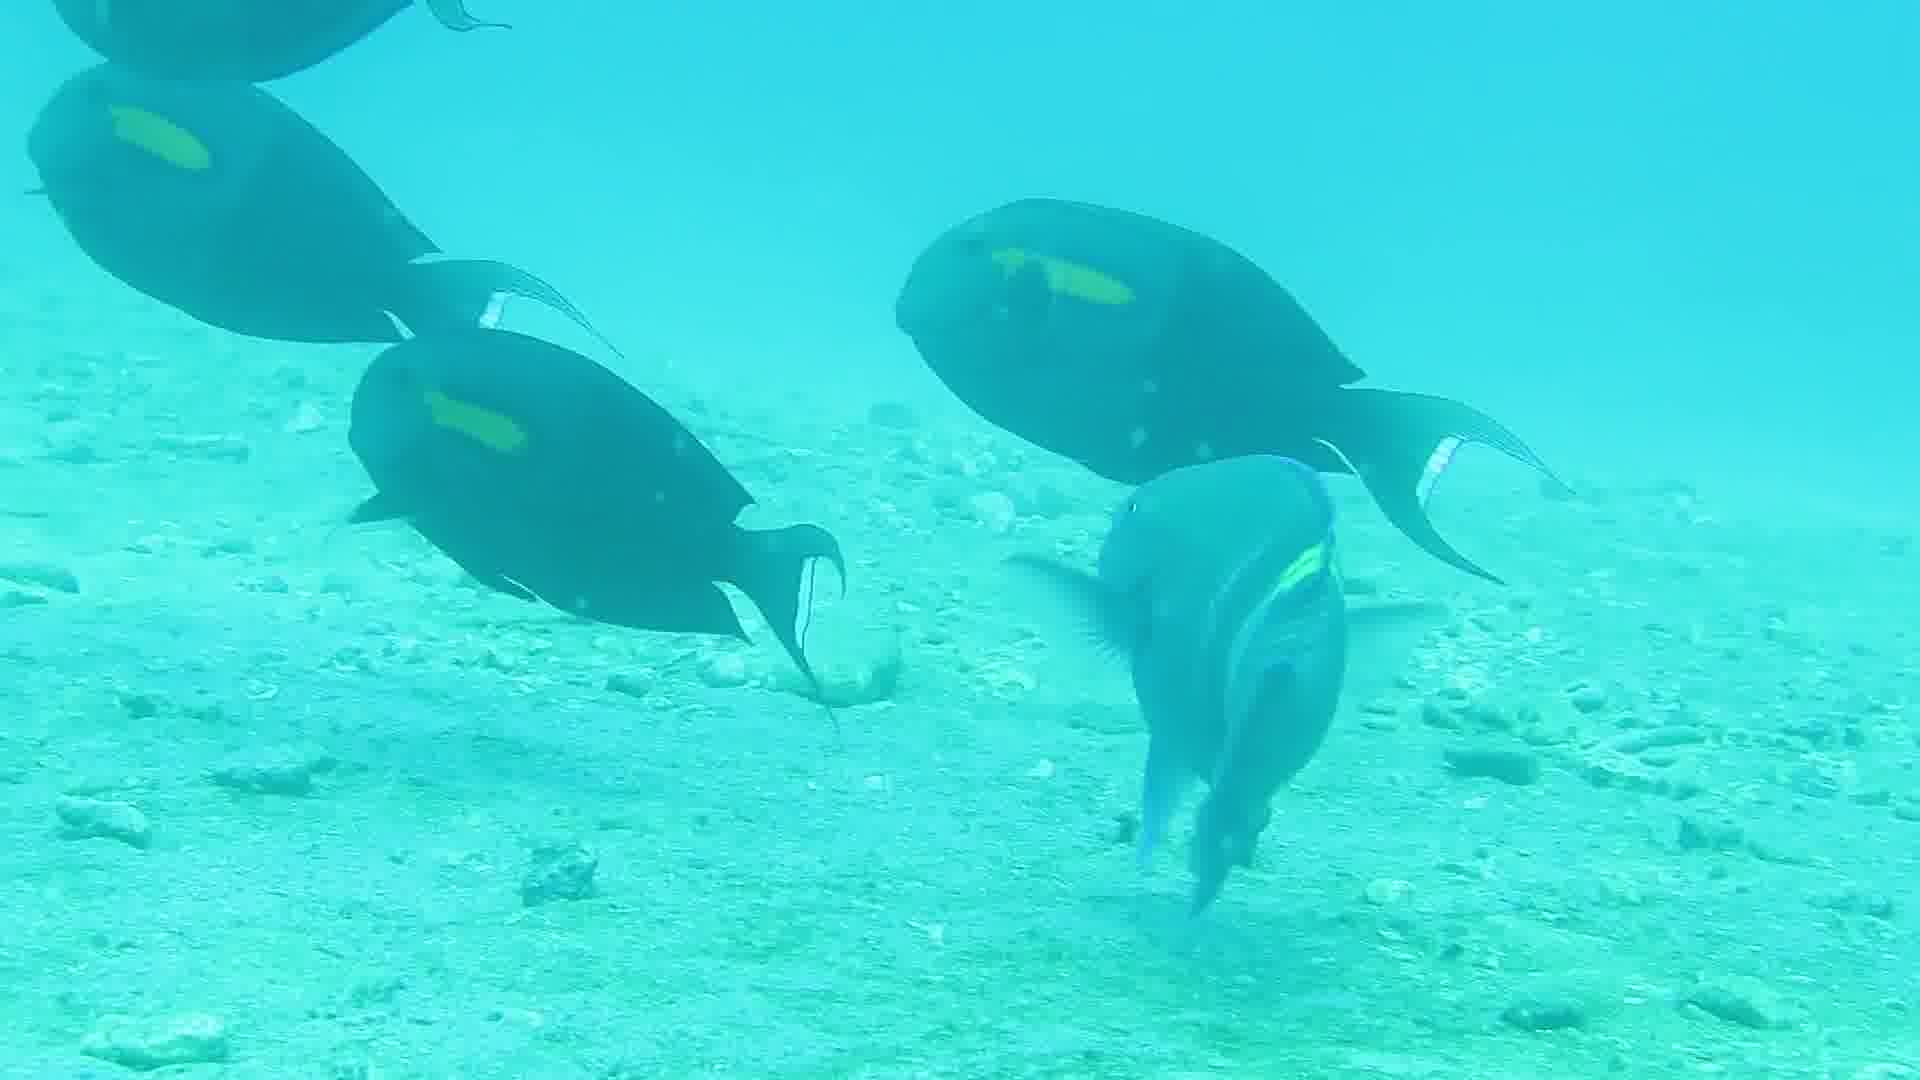Acanthurus olivaceus: (902, 100, 1503, 517), (349, 320, 860, 702), (1, 1, 510, 382), (1005, 455, 1412, 923)
